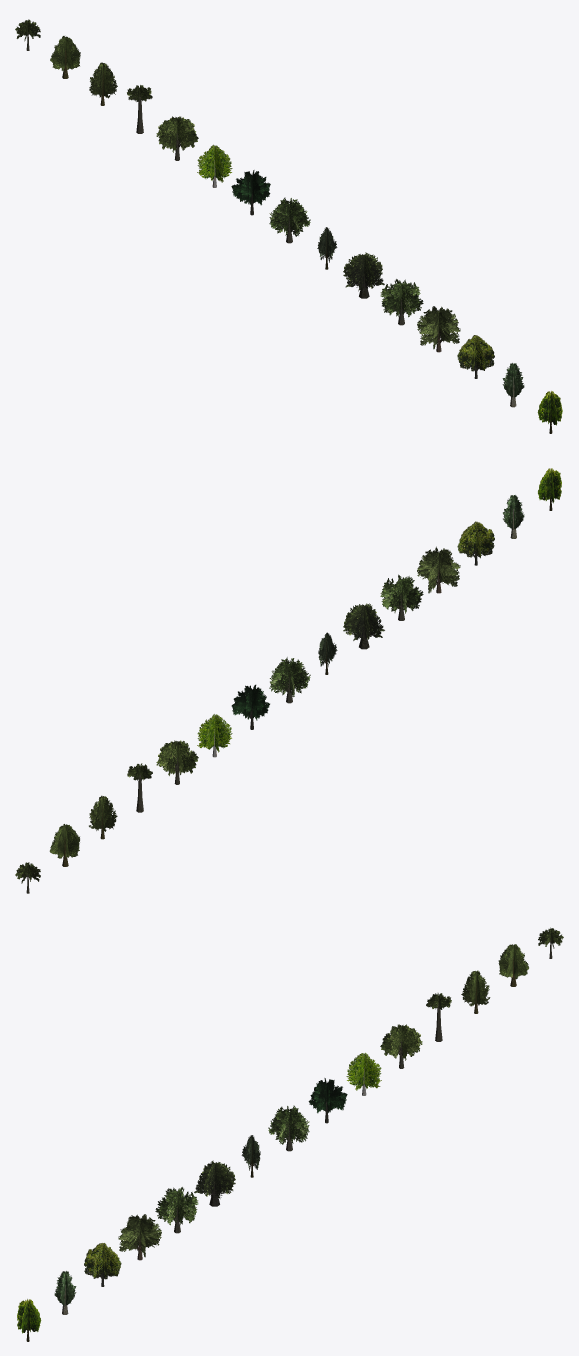
The model's file is deciduos.glb.
3 renders of one model, top to bottom at view 1: azimuth 30°, elevation 25°; view 2: azimuth 150°, elevation 25°; view 3: azimuth 330°, elevation 25°, orthographic.
Parts seen in each view (by area): view 1: tree22_lod0, tree17_lod0, tree23_lod0, tree24_lod0, tree19_lod0, tree20_lod0, tree21_lod0, tree16_lod0, tree25_lod0, tree18_lod0, tree15_lod0, tree02_lod0; view 2: tree22_lod0, tree17_lod0, tree23_lod0, tree24_lod0, tree19_lod0, tree20_lod0, tree21_lod0, tree16_lod0, tree25_lod0, tree18_lod0, tree15_lod0, tree02_lod0; view 3: tree22_lod0, tree23_lod0, tree24_lod0, tree17_lod0, tree19_lod0, tree20_lod0, tree16_lod0, tree21_lod0, tree25_lod0, tree18_lod0, tree15_lod0, tree02_lod0.
Boxes of the visible parts, x1,y1,x2,y2 form: tree22_lod0: (417,306,460,352); tree17_lod0: (343,252,384,298); tree23_lod0: (380,279,423,325); tree24_lod0: (269,197,310,243); tree19_lod0: (156,116,198,160); tree20_lod0: (457,335,494,378); tree21_lod0: (231,170,270,215); tree16_lod0: (197,144,232,187); tree25_lod0: (50,36,80,78); tree18_lod0: (89,62,117,105); tree15_lod0: (537,391,562,433); tree02_lod0: (502,363,524,407); tree22_lod0: (417,546,460,593); tree17_lod0: (343,603,384,649); tree23_lod0: (380,574,423,620); tree24_lod0: (269,657,310,703); tree19_lod0: (156,740,198,784); tree20_lod0: (457,521,494,565); tree21_lod0: (231,684,269,729); tree16_lod0: (197,714,232,757); tree25_lod0: (49,824,79,866); tree18_lod0: (89,795,117,839); tree15_lod0: (538,468,561,510); tree02_lod0: (503,495,524,538); tree22_lod0: (118,1214,161,1260); tree23_lod0: (155,1187,198,1233); tree24_lod0: (268,1105,309,1151); tree17_lod0: (194,1160,235,1206); tree19_lod0: (380,1024,422,1068); tree20_lod0: (84,1243,121,1286); tree16_lod0: (346,1052,381,1095); tree21_lod0: (308,1078,347,1123); tree25_lod0: (498,944,528,986); tree18_lod0: (461,970,490,1013); tree15_lod0: (17,1299,41,1341); tree02_lod0: (54,1271,76,1314).
Size of what is drawn, in the model's own units: 14.4 by 13.9 by 288.
15 materials, 15 textured.
